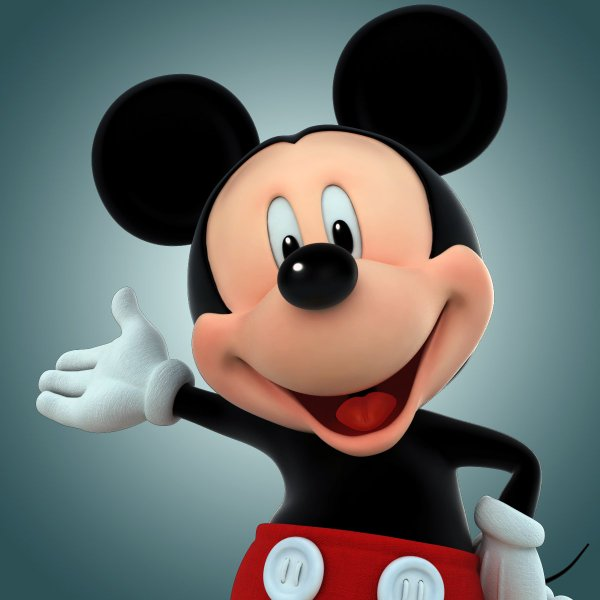Mickey: (86, 1, 512, 464)
